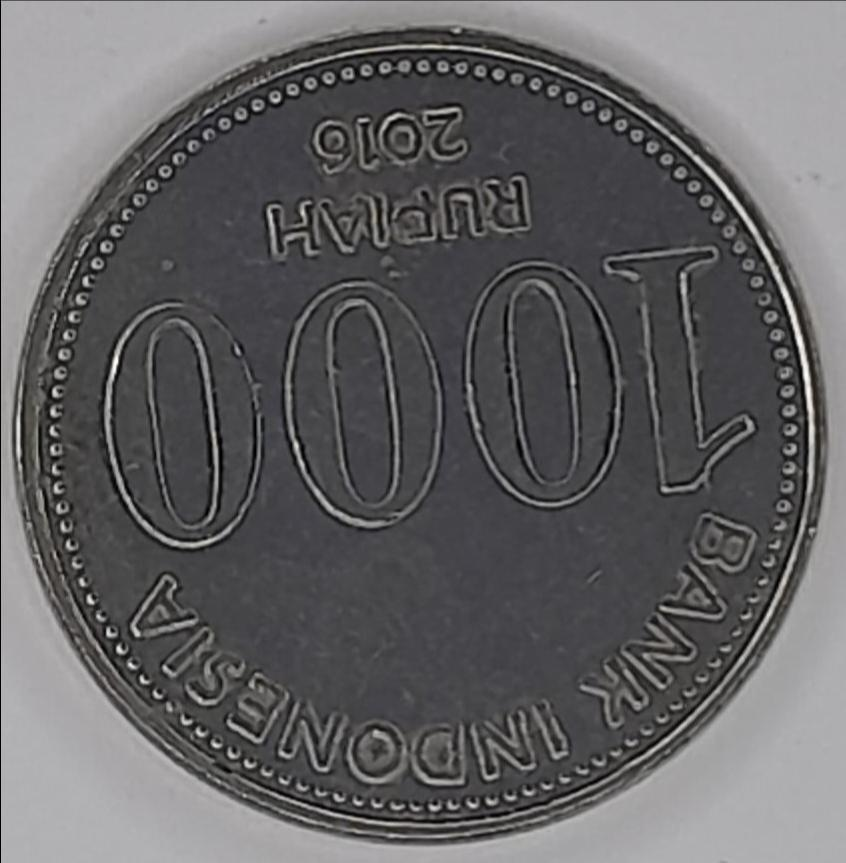coin_1000_e2016: (14, 17, 835, 863)
